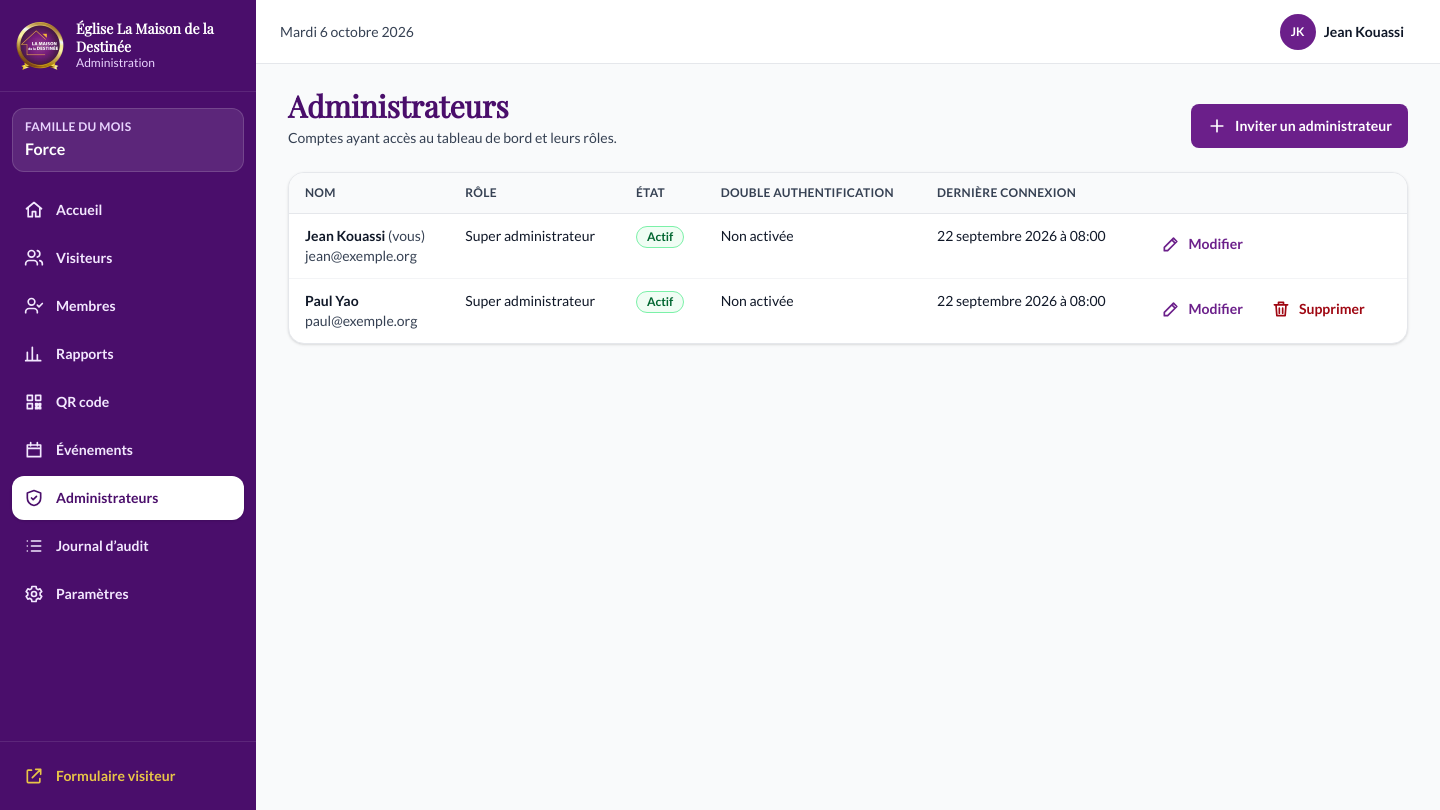
Test: administrateurs › affiche clairement le refus « dernier super administrateur » (409)
This screenshot has width=1440, height=810.
Click the button named "Supprimer Paul Yao". click: (1318, 309)
box: [1259,291,1377,327]
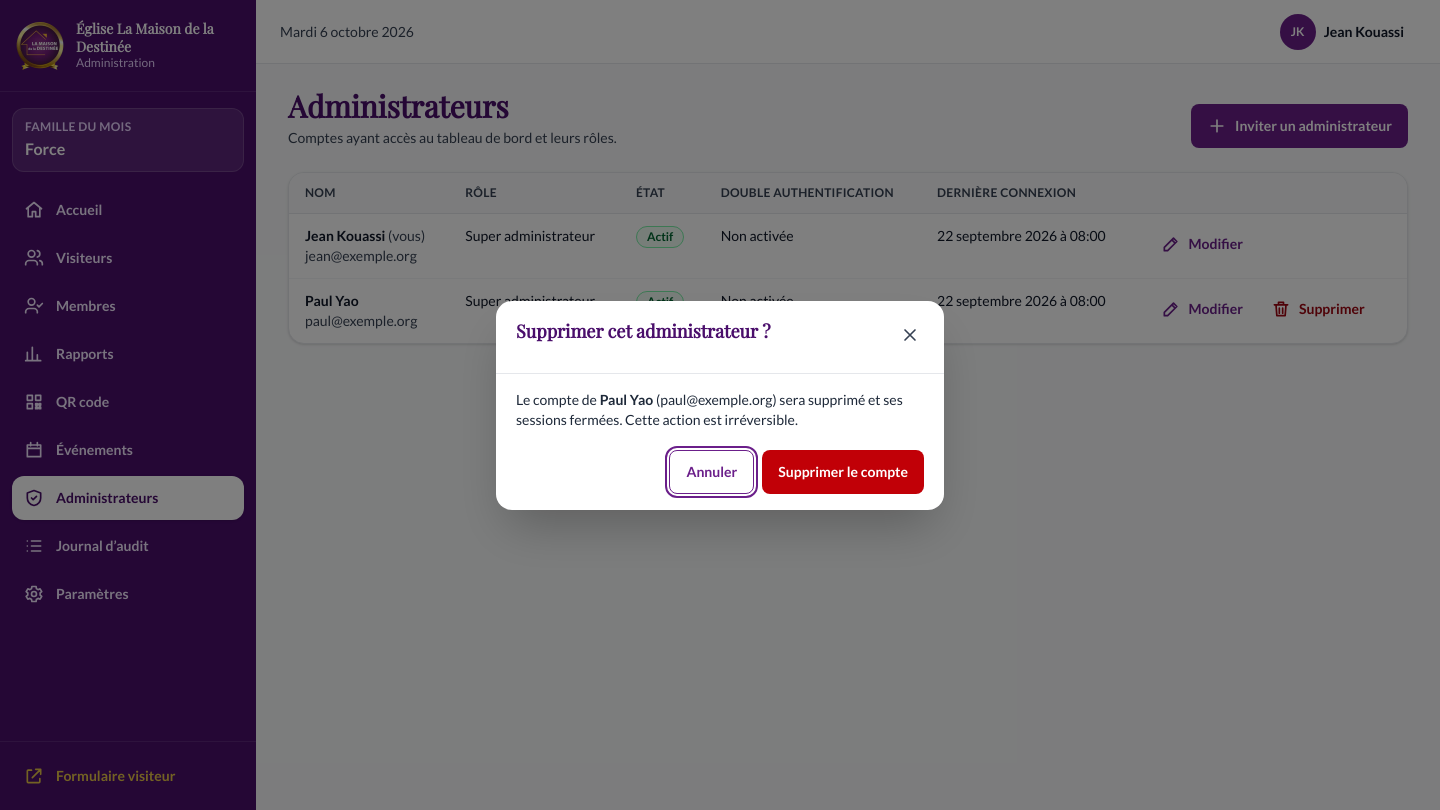
Click the button "Supprimer le compte". click: (843, 472)
box: [762,450,924,494]
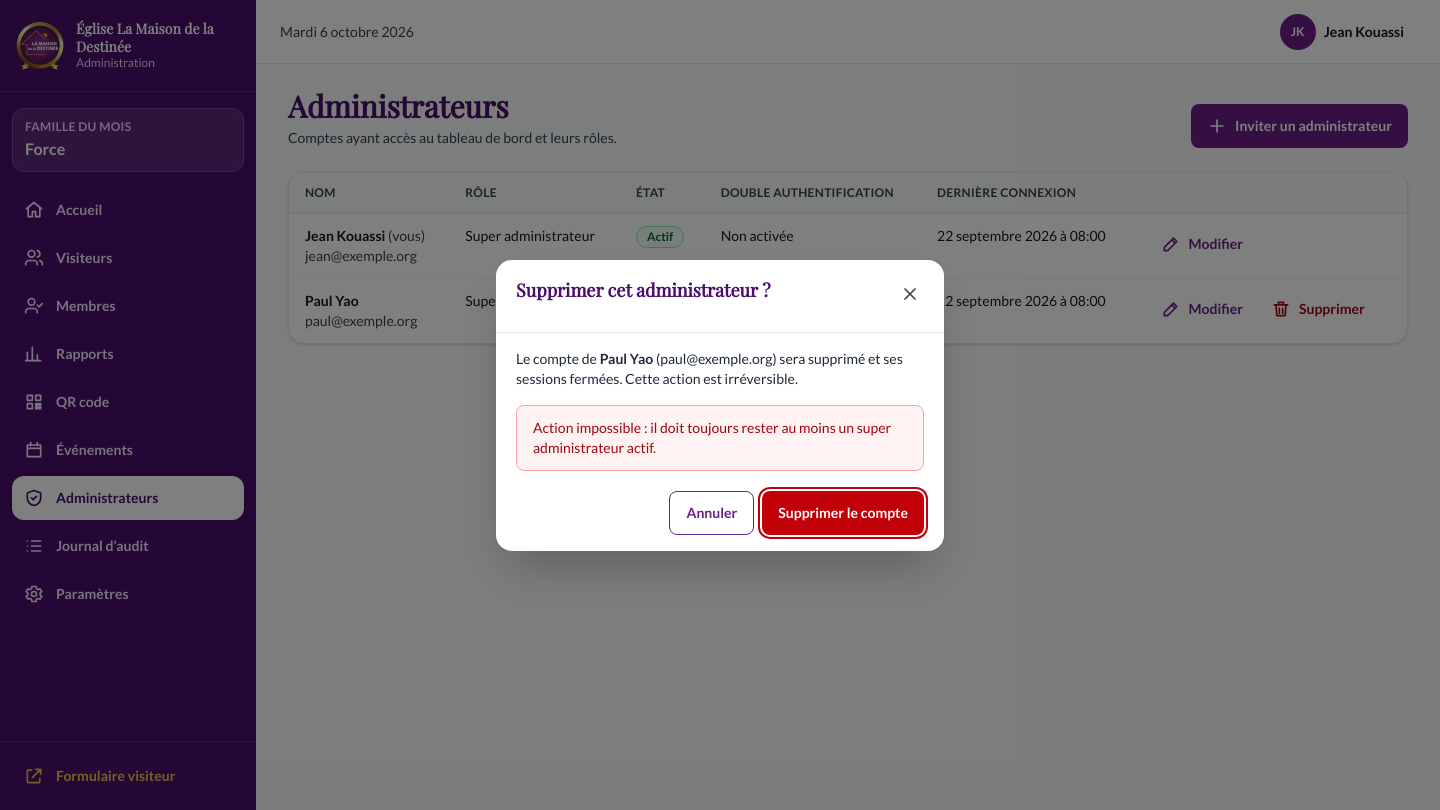
expect the message shows "il doit toujours rester au moins un super administrateur actif": met, box [533,418,891,456]
